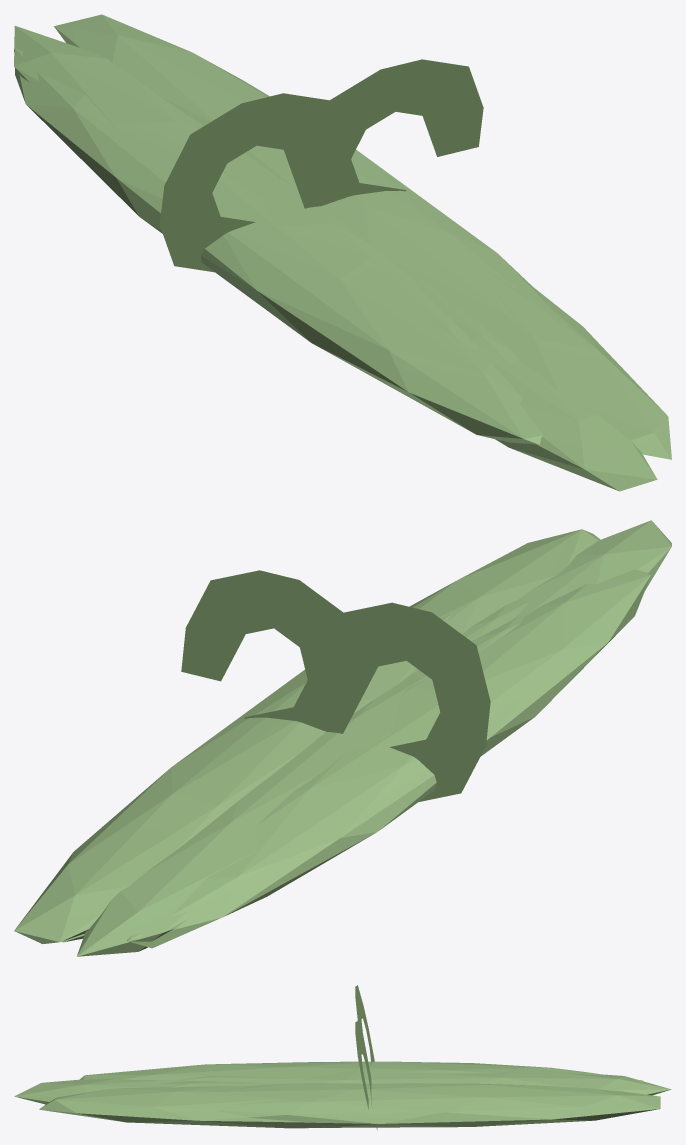
The model's file is macrothelypteris-torresiana.glb.
The picture shows the model from 3 angles, top to bottom: view 1: azimuth 30°, elevation 25°; view 2: azimuth 150°, elevation 25°; view 3: azimuth 270°, elevation 25°; orthographic projection. The views are drawn at different scales.
Visible parts, largest first — view 1: frond3, frond0, frond4, fiddle-1, frond1, fiddle1, frond2, frond5; view 2: frond3, frond0, frond4, fiddle-1, fiddle1, frond1, frond2, frond5; view 3: frond0, frond1, frond4, frond3, frond2, frond5, fiddle1, fiddle-1.
Part boxes in pixels (x1,y1,x2,y2): frond3: (14, 48, 543, 444); frond0: (54, 14, 549, 318); frond4: (14, 26, 479, 349); fiddle-1: (159, 93, 342, 272); frond1: (429, 259, 671, 459); fiddle1: (298, 59, 483, 208); frond2: (476, 347, 657, 491); frond5: (405, 271, 518, 363); frond3: (127, 569, 650, 948); frond0: (14, 614, 451, 943); frond4: (77, 616, 523, 956); fiddle-1: (315, 602, 490, 801); fiddle1: (181, 570, 357, 733); frond1: (409, 529, 600, 633); frond2: (516, 520, 671, 617); frond5: (411, 600, 530, 673); frond0: (201, 1083, 660, 1127); frond1: (39, 1085, 340, 1128); frond4: (181, 1068, 671, 1095); frond3: (80, 1061, 643, 1081); frond2: (14, 1078, 182, 1104); frond5: (159, 1081, 277, 1087); fiddle1: (355, 1021, 377, 1130); fiddle-1: (355, 985, 374, 1073).
Bounding box in the file's own units: 0.184 × 0.1059 × 0.6215.
